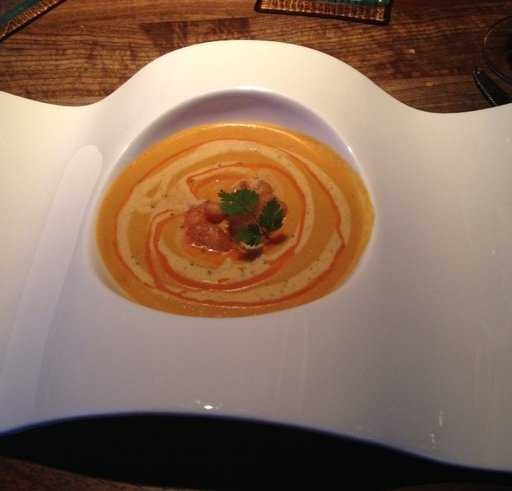soup: (92, 114, 367, 325)
